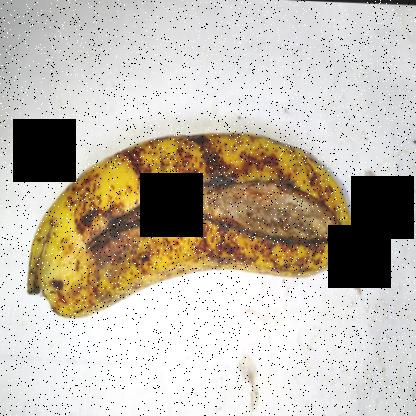rotten: (68, 124, 364, 283)
